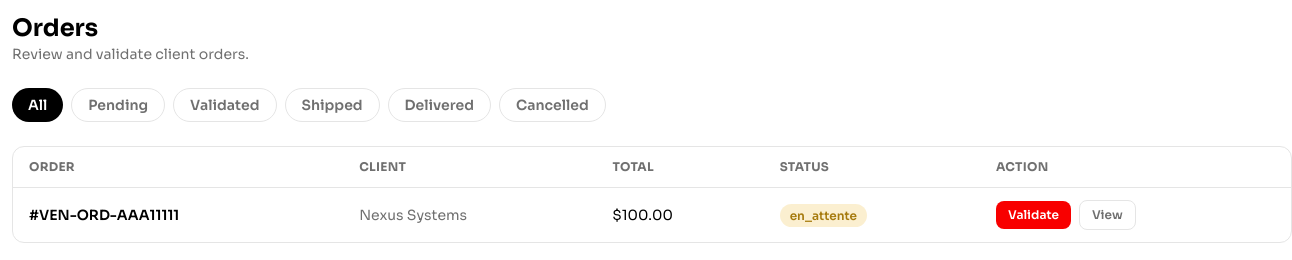
it: Commercial Orders page › validates a pending order and updates the row on success
The width and height of the screenshot is (1292, 260).
Check: the text "#VEN-ORD-AAA11111" is shown, box [13, 188, 343, 242]
Click the button "Validate" at (1033, 215), box [996, 201, 1071, 229]
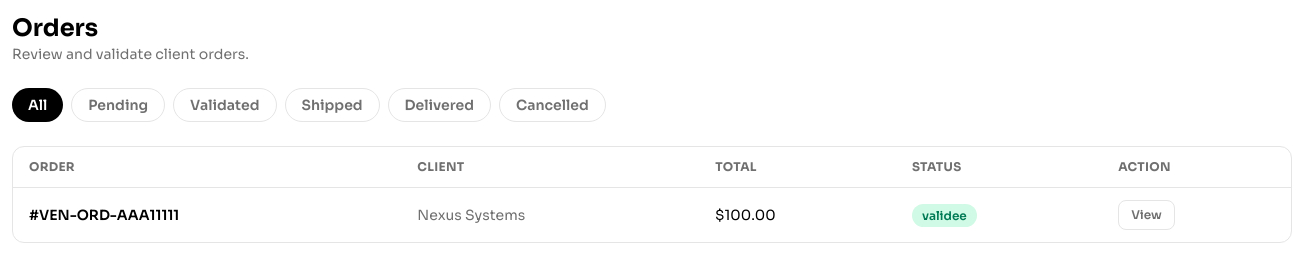
Check: the text "validee" is shown, box [912, 204, 977, 227]
